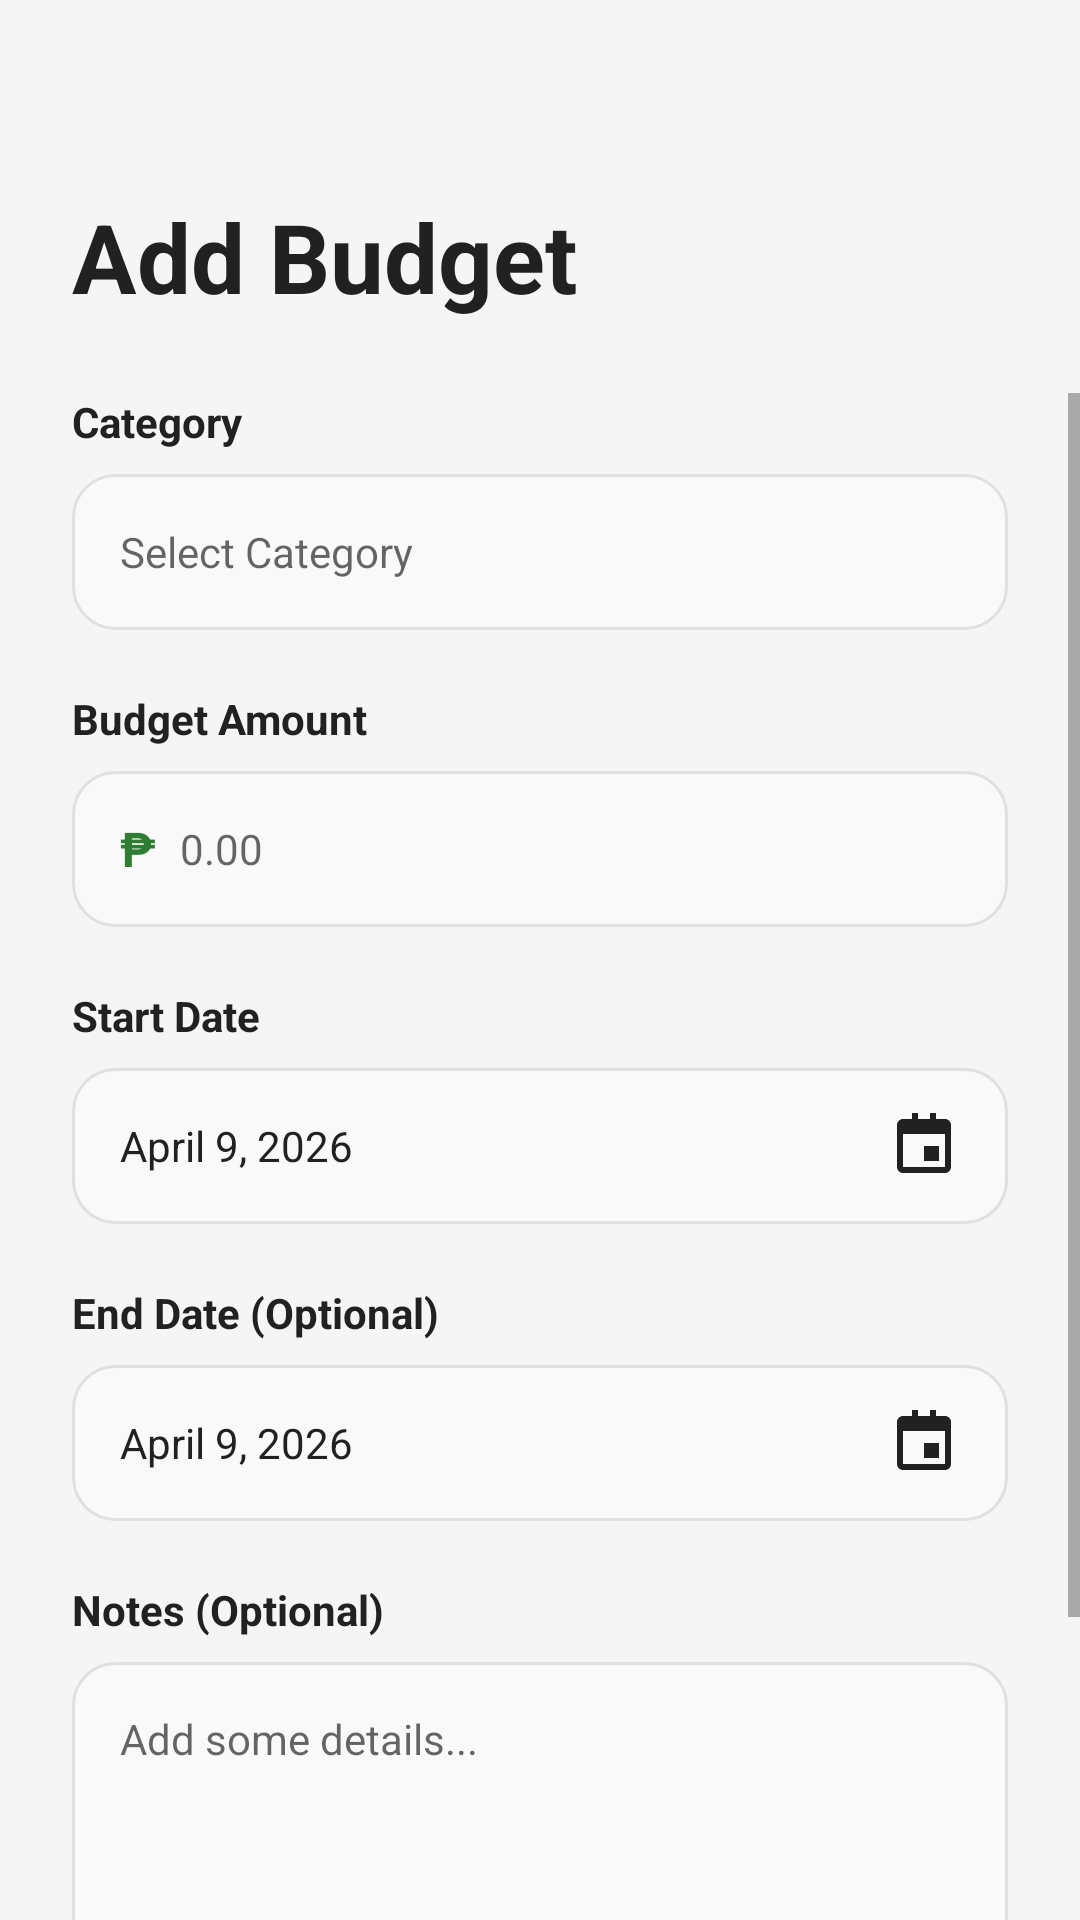

Named icons in this screenshot (1080 × 1920) and their centers, [x,y]:
Pick end date: [924,1440]
Pick start date: [924,1143]
